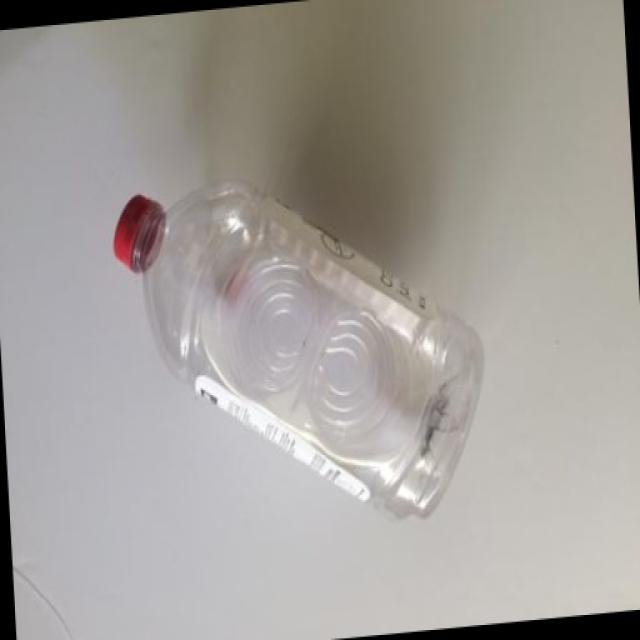plastico: (109, 170, 511, 569)
